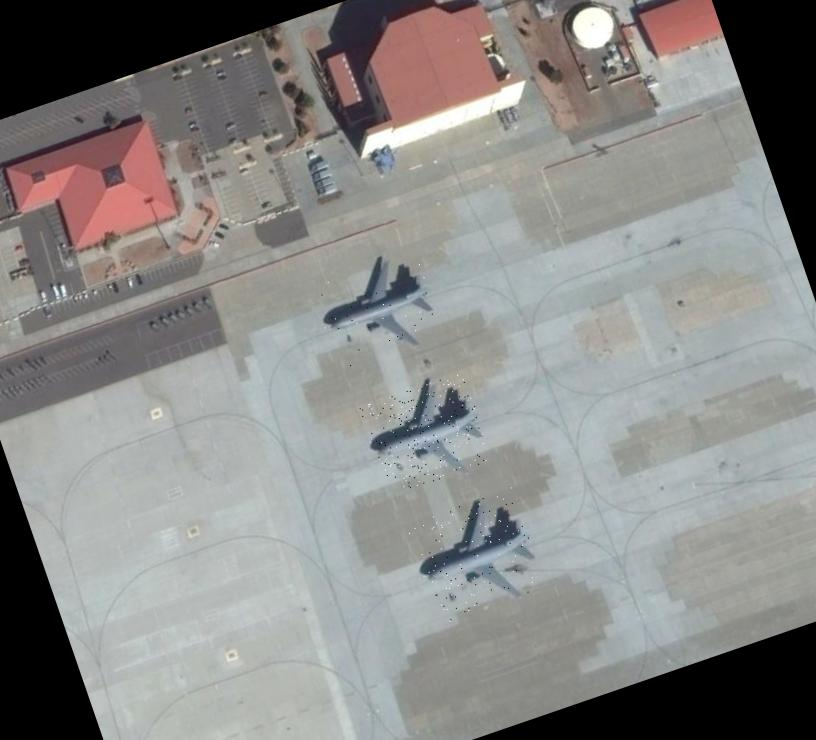A18: (406, 486, 546, 625), (309, 244, 447, 370), (358, 371, 494, 496)
